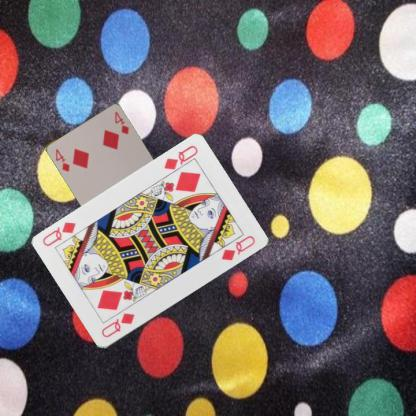4d: (53, 146, 71, 174)
Qd: (162, 142, 200, 178), (98, 310, 136, 339)
